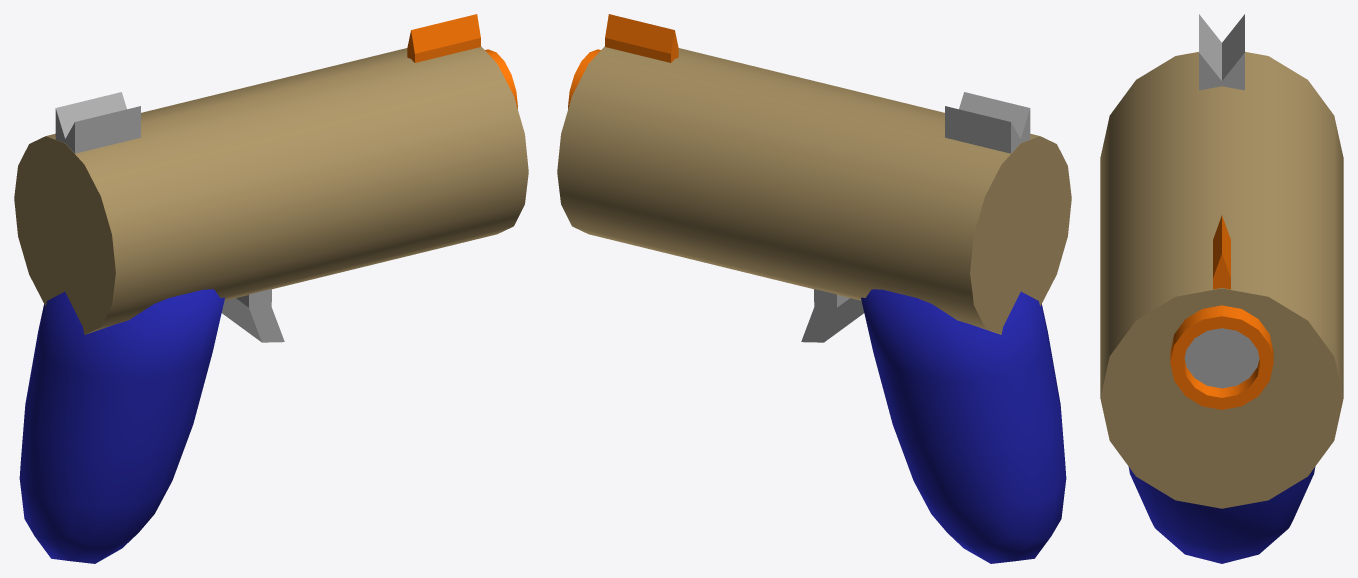
Rendered from NerfGun.glb.
3 views of the same model, side by side, from view 1: azimuth 30°, elevation 25°; view 2: azimuth 150°, elevation 25°; view 3: azimuth 270°, elevation 25° (orthographic). The views are drawn at different scales.
Visible parts, largest first — view 1: Gun Body, Gun Handle, Gun Rear Sight, Gun Front Sight, Gun Trigger; view 2: Gun Body, Gun Handle, Gun Rear Sight, Gun Front Sight, Gun Trigger; view 3: Gun Body, Gun Barrel, Gun Handle, Gun Rear Sight, Gun Front Sight.
Part boxes in pixels (x1=…): Gun Body: x1=14, y1=46, x2=528, y2=334; Gun Handle: x1=19, y1=289, x2=224, y2=563; Gun Rear Sight: x1=55, y1=92, x2=140, y2=153; Gun Front Sight: x1=407, y1=14, x2=480, y2=62; Gun Trigger: x1=221, y1=289, x2=284, y2=342; Gun Body: x1=557, y1=46, x2=1071, y2=334; Gun Handle: x1=861, y1=289, x2=1066, y2=563; Gun Rear Sight: x1=945, y1=92, x2=1030, y2=153; Gun Front Sight: x1=605, y1=14, x2=678, y2=62; Gun Trigger: x1=801, y1=289, x2=864, y2=342; Gun Body: x1=1100, y1=52, x2=1343, y2=508; Gun Barrel: x1=1170, y1=305, x2=1273, y2=409; Gun Handle: x1=1128, y1=467, x2=1315, y2=563; Gun Rear Sight: x1=1199, y1=14, x2=1244, y2=90; Gun Front Sight: x1=1213, y1=215, x2=1230, y2=289.
Bounding box in the file's own units: 0.2116 × 0.1951 × 0.08.
